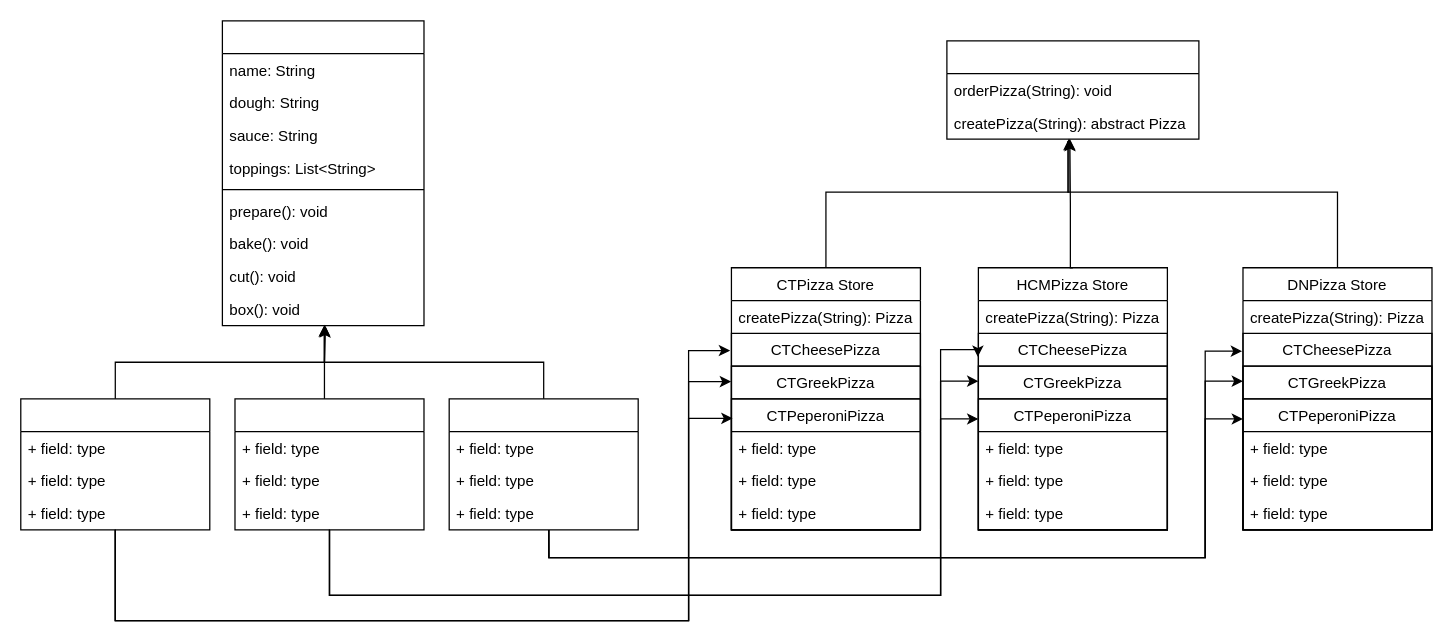
This 1453x641 diagram has some shape labels left out. The shapes that lost their labels are listed below. From the top down, each one's box as (x1, y1, x2, y2) in pixels, then its label:
(946, 40, 1199, 139): abstract Pizza Store
(221, 20, 424, 326): abstract Pizza
(20, 398, 210, 530): CTPizzas
(234, 398, 424, 530): HCMPIzzas
(448, 398, 638, 530): DNPizzas
